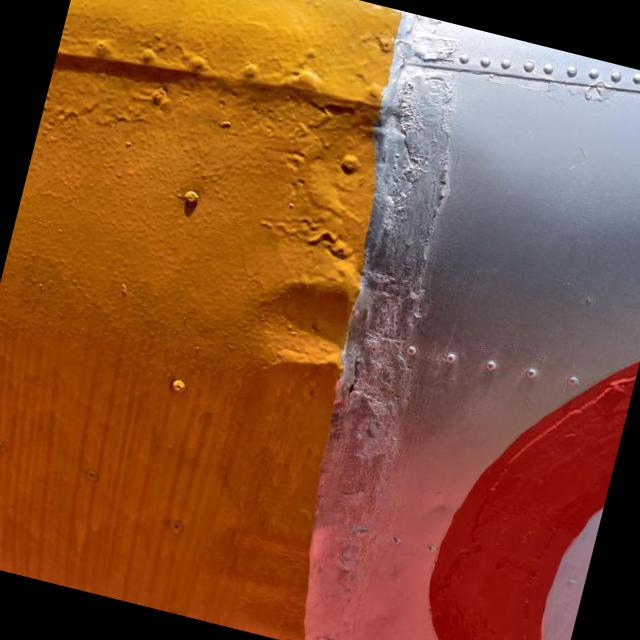Dent: (226, 229, 359, 367)
